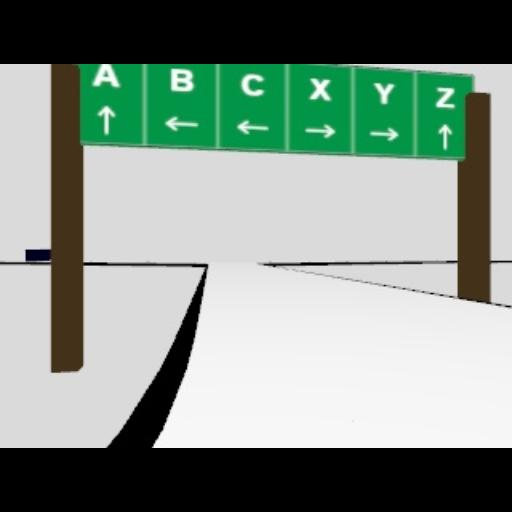A: (92, 64, 120, 88)
B: (170, 67, 194, 91)
C: (240, 72, 266, 96)
Left: (164, 115, 200, 131), (234, 118, 268, 134)
Right: (302, 123, 336, 137), (368, 127, 400, 141)
Straight: (96, 106, 116, 132), (437, 123, 451, 149)
X: (309, 77, 331, 99)
Y: (373, 82, 395, 104)
Z: (436, 86, 456, 108)
